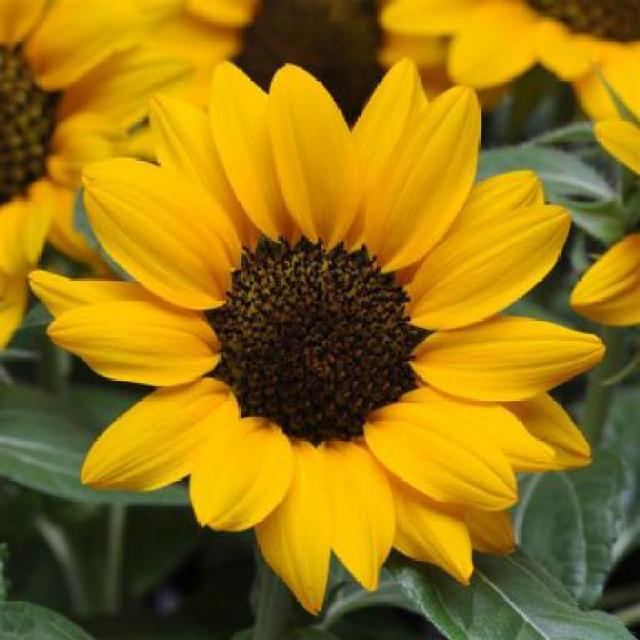sunflower: (52, 46, 600, 594)
